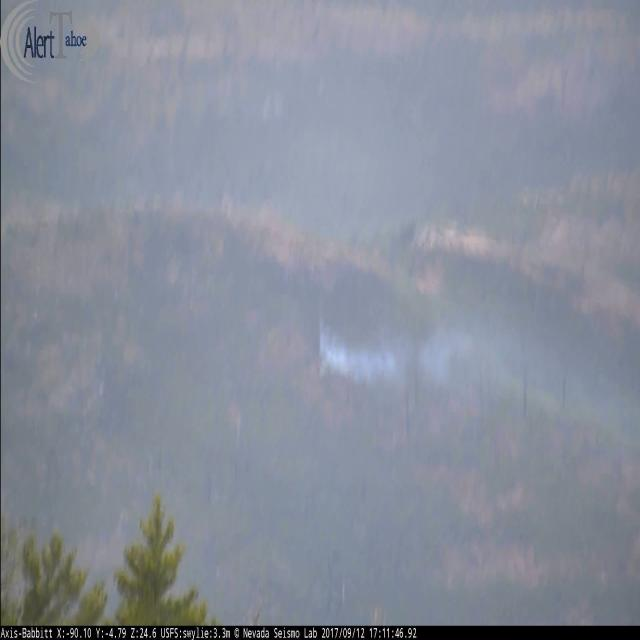smoke: (320, 309, 456, 388)
